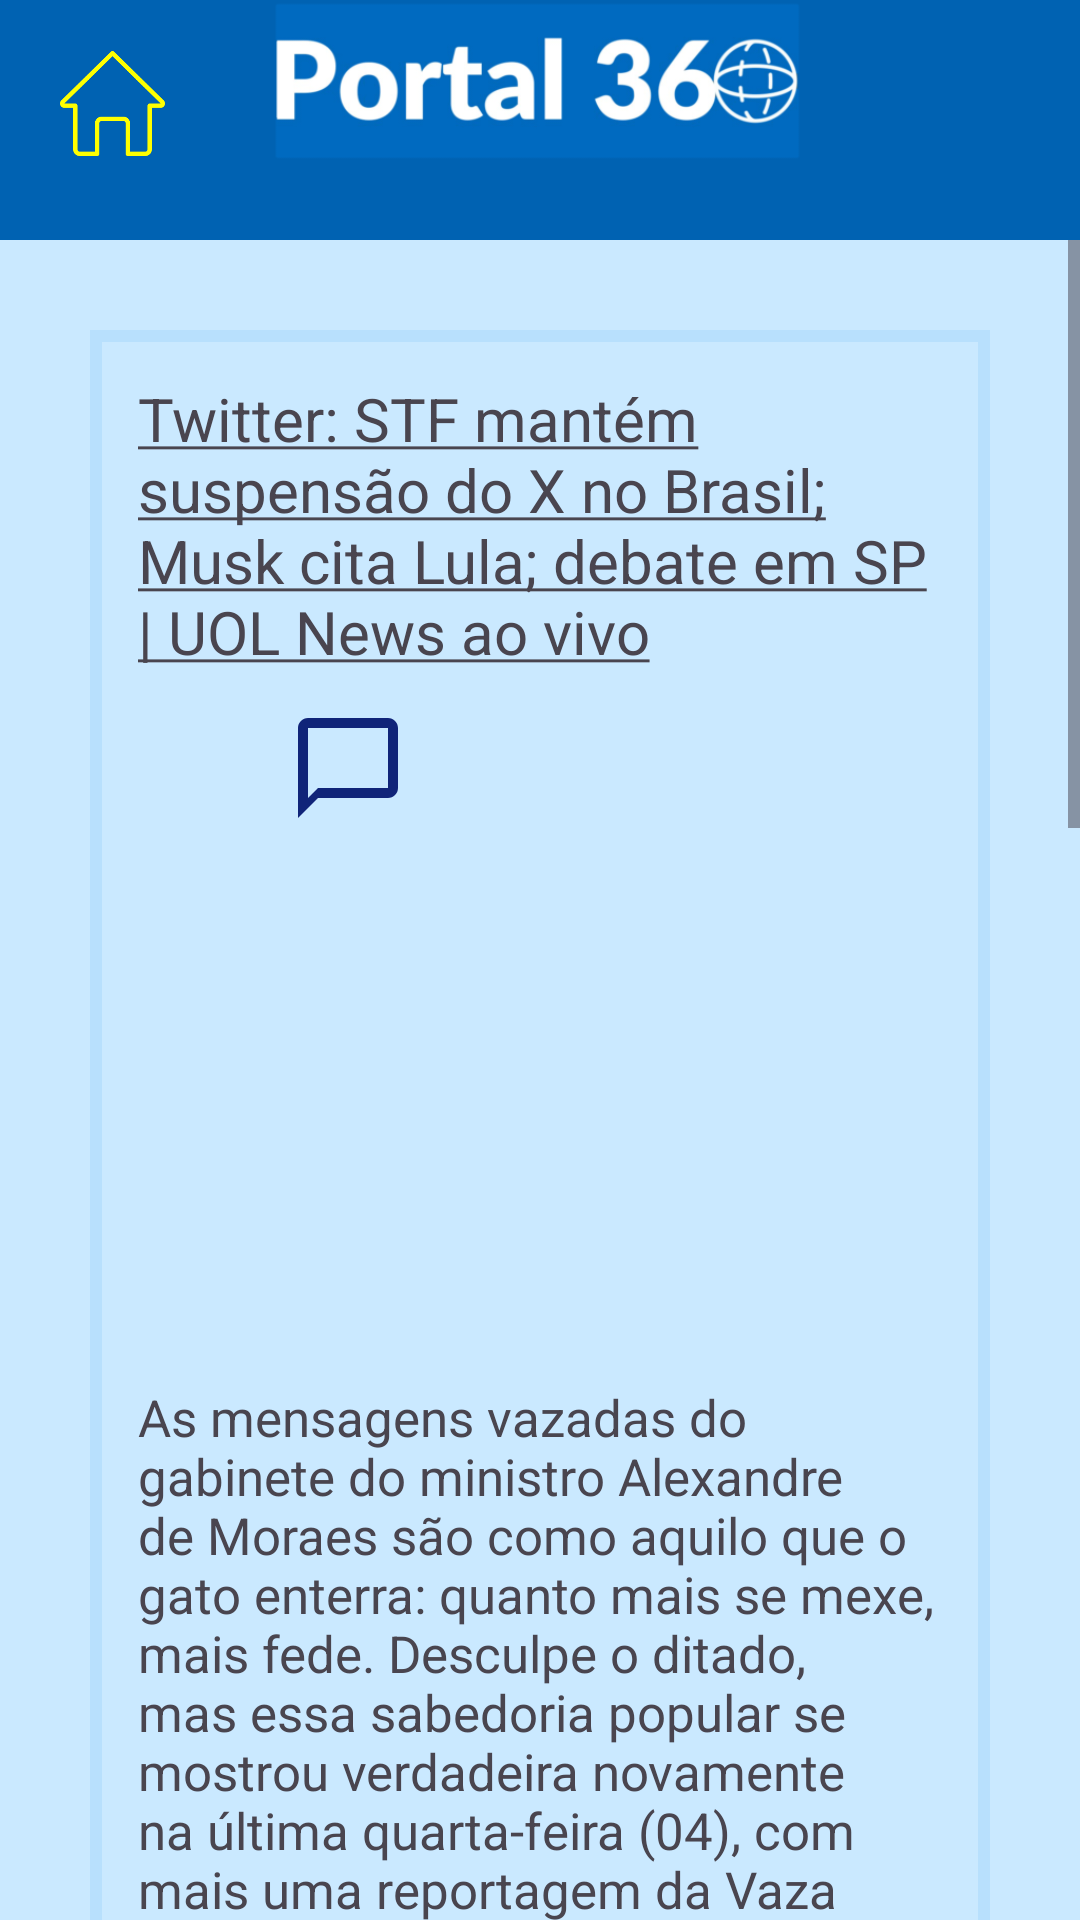

Named icons in this screenshot (1080px×1920px) and their bounding boxes, (x1, y1, x2, y2):
comentar: (298, 718, 398, 818)
Volte a tela inicial: (60, 51, 165, 156)
